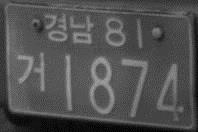1: (61, 50, 76, 115), (131, 15, 147, 50)
4: (152, 62, 185, 122)
7: (119, 56, 153, 119)
8: (89, 54, 117, 115), (104, 18, 128, 47)
거: (15, 51, 47, 93)
경남_O: (43, 12, 95, 44)
